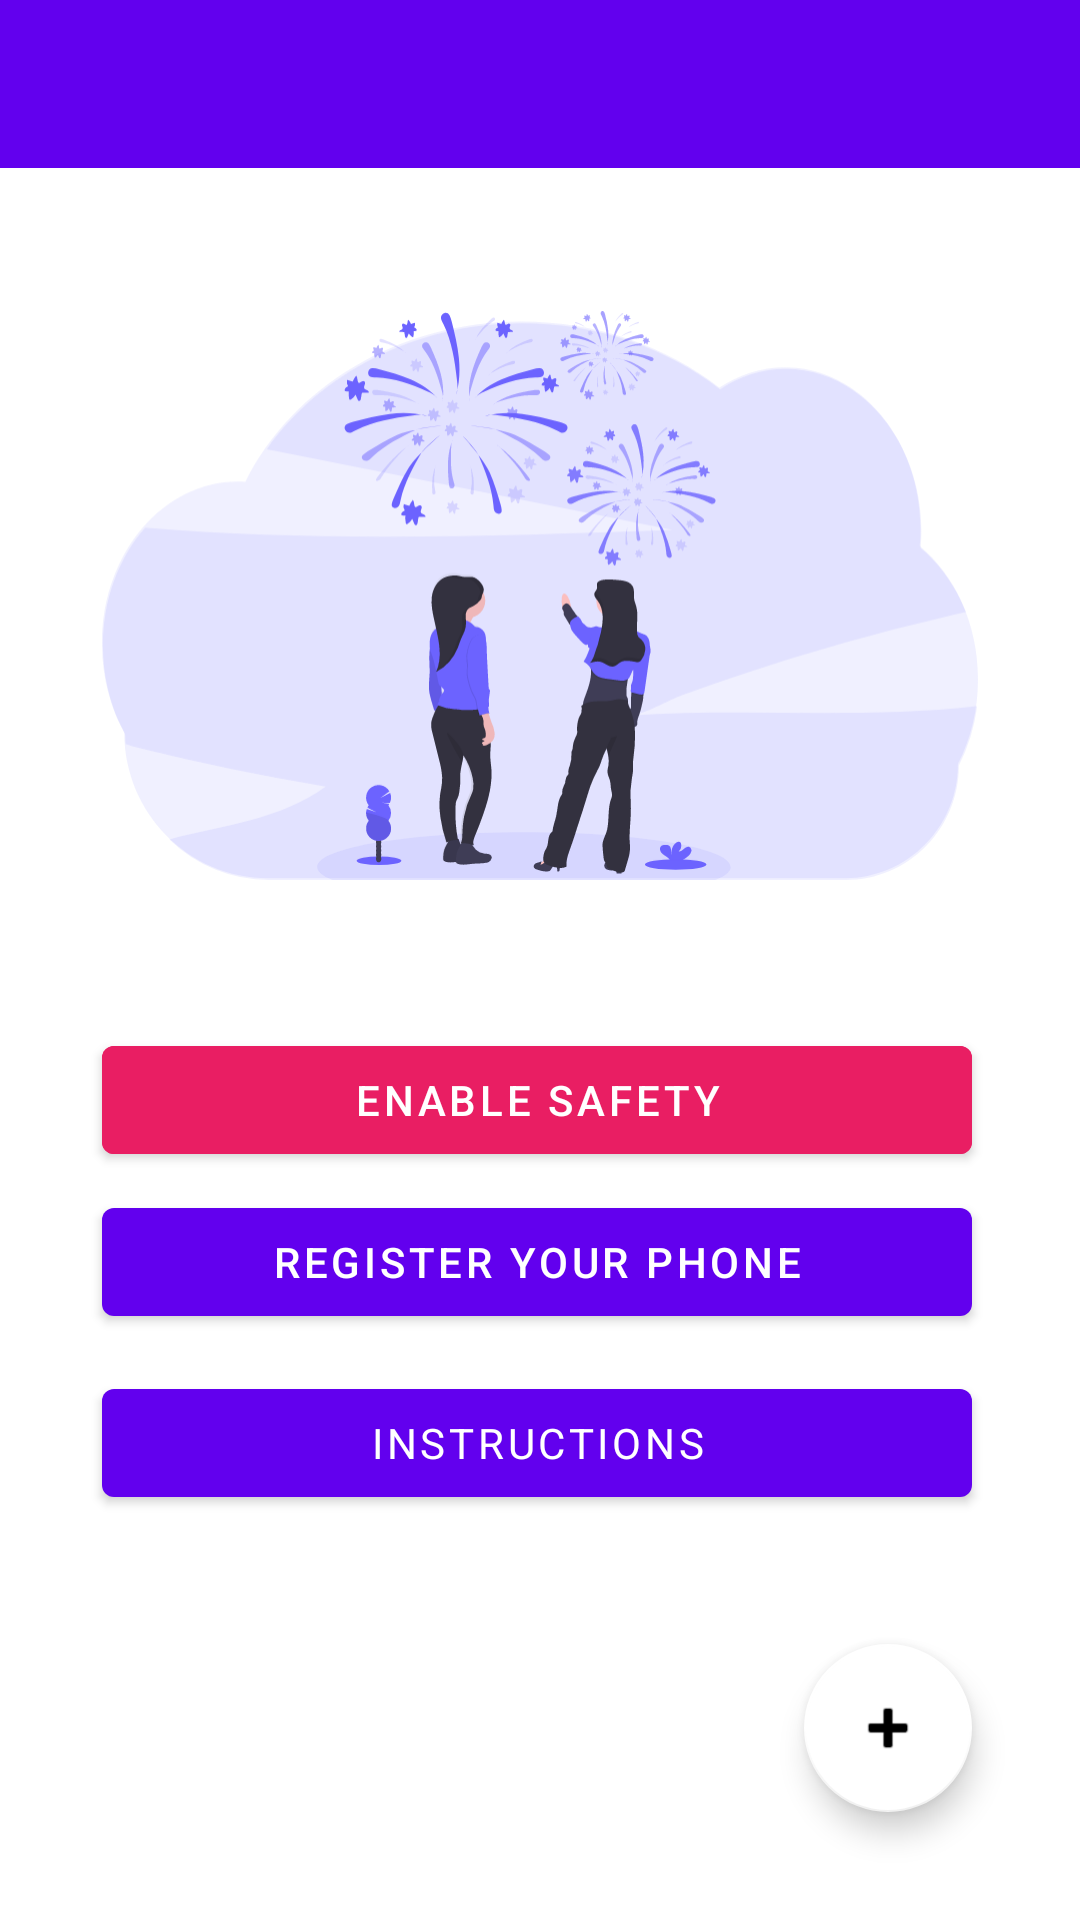

Icons on this 1080x1920 Android screen, each with the point to tap as (x=x, y=y):
add: (x=890, y=1760)
